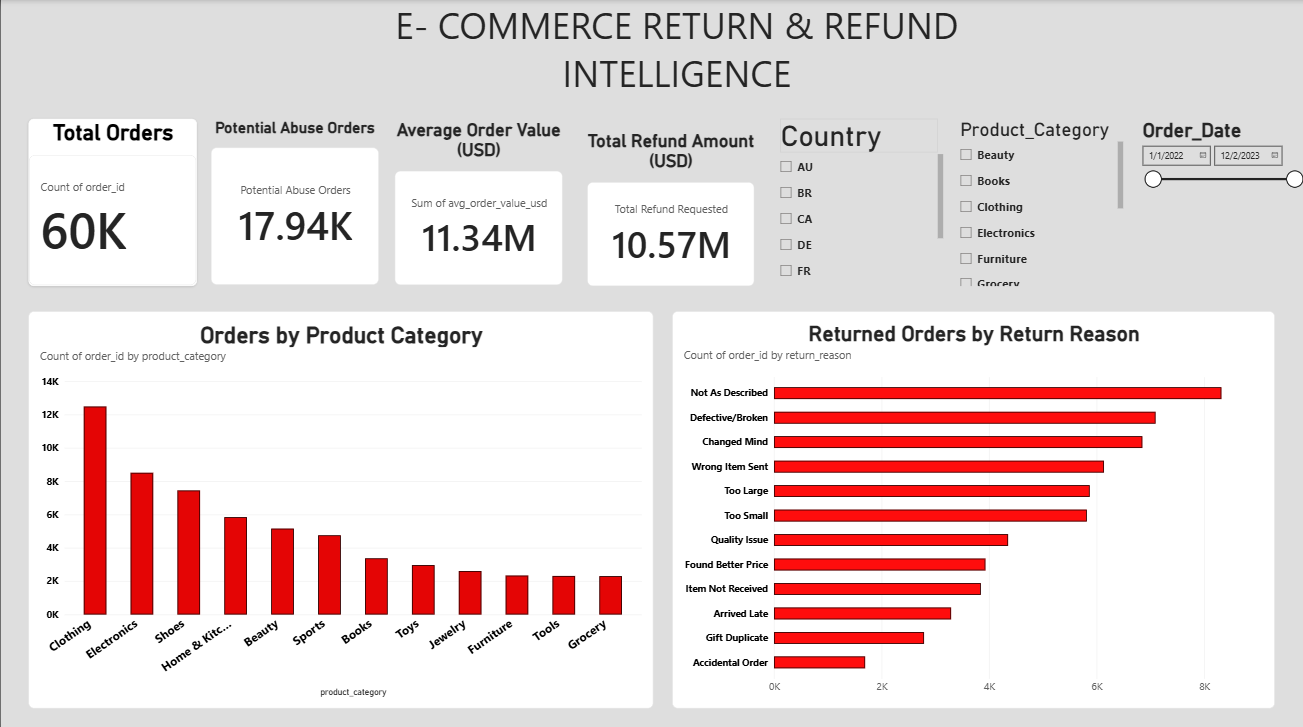

The dashboard page shown, as its layout file describes it:
{"tool":"powerbi","page":{"name":"Executive Overview","canvas":[1920,1080],"ordinal":0},"visuals":[{"type":"cardVisual","title":"Total Orders","fields":{"Data":["CountNonNull(vw_Ecommerce_PowerBI.order_id)"]},"box":[40,175,248,246],"z":0},{"type":"clusteredColumnChart","title":"Orders by Product Category","fields":{"Category":["vw_Ecommerce_PowerBI.product_category"],"Y":["Count(vw_Ecommerce_PowerBI.order_id)"]},"box":[40,457.5,920,585],"z":1000},{"type":"clusteredBarChart","title":"Returned Orders by Return Reason","fields":{"Category":["vw_Ecommerce_PowerBI.return_reason"],"Y":["CountNonNull(vw_Ecommerce_PowerBI.order_id)"]},"box":[987.5,457.5,887.5,585],"z":2000},{"type":"cardVisual","title":"Potential Abuse Orders","fields":{"Data":["ecommerce_return_abuse_dataset.Potential Abuse Orders"]},"box":[310,175,247.5,245],"z":3000},{"type":"cardVisual","title":"Average Order Value (USD)","fields":{"Data":["Sum(ecommerce_return_abuse_dataset.avg_order_value_usd)"]},"box":[580,175,247.5,245],"z":4000},{"type":"cardVisual","title":"Total Refund Amount (USD)","fields":{"Data":["ecommerce_return_abuse_dataset.Total Refund Requested"]},"box":[862.5,175,248,246],"z":5000},{"type":"slicer","fields":{"Values":["ecommerce_return_abuse_dataset.country"]},"box":[1140,175,248,246],"z":6000},{"type":"slicer","fields":{"Values":["ecommerce_return_abuse_dataset.product_category"]},"box":[1405,175,248,246],"z":7000},{"type":"slicer","fields":{"Values":["ecommerce_return_abuse_dataset.order_date"]},"box":[1672.5,175,248,246],"z":8000},{"type":"textbox","box":[40,0,248,246],"z":9000},{"type":"textbox","box":[557.5,0,875,175],"z":10000}]}

Visuals, with their boxes in screenshot pixels (x1, y1, x2, y2), scaled from the page's 1920x1080 canvas onto the 1303x727 screenshot:
"Total Orders" cardVisual: <region>27, 118, 195, 283</region>
"Orders by Product Category" clusteredColumnChart: <region>27, 308, 652, 702</region>
"Returned Orders by Return Reason" clusteredBarChart: <region>670, 308, 1272, 702</region>
"Potential Abuse Orders" cardVisual: <region>210, 118, 378, 283</region>
"Average Order Value (USD)" cardVisual: <region>394, 118, 562, 283</region>
"Total Refund Amount (USD)" cardVisual: <region>585, 118, 754, 283</region>
slicer - ecommerce_return_abuse_dataset.country: <region>774, 118, 942, 283</region>
slicer - ecommerce_return_abuse_dataset.product_category: <region>953, 118, 1122, 283</region>
slicer - ecommerce_return_abuse_dataset.order_date: <region>1135, 118, 1302, 283</region>
textbox: <region>27, 0, 195, 166</region>
textbox: <region>378, 0, 972, 118</region>
